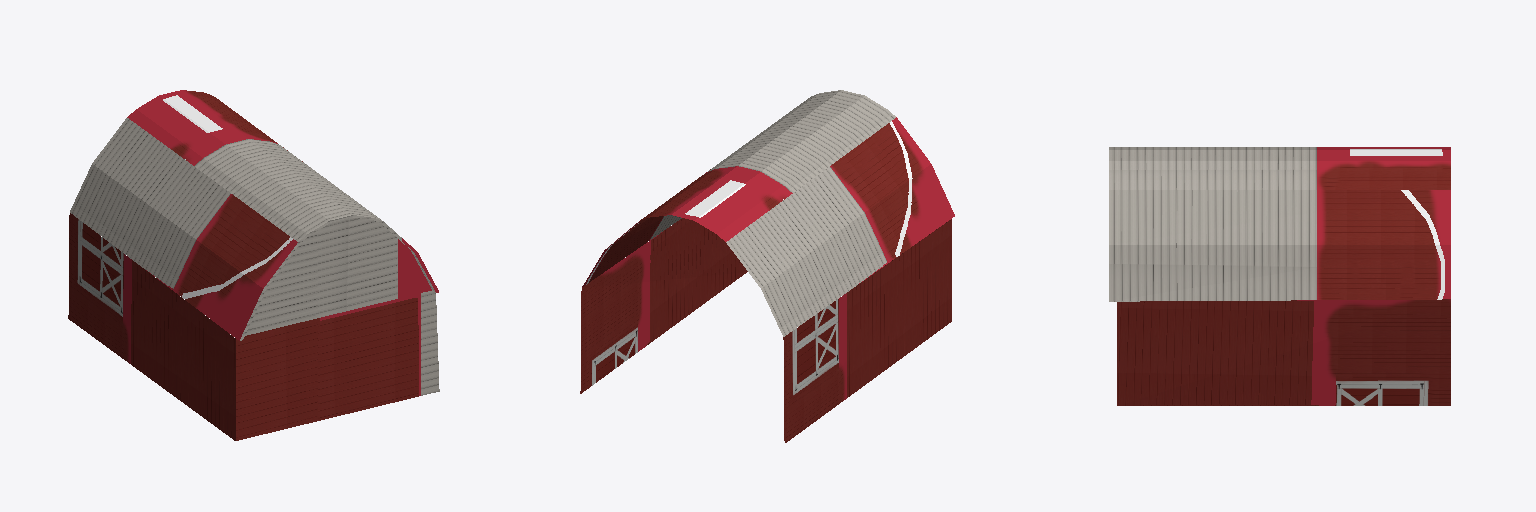
3 renders of one model, left to right at view 1: azimuth 30°, elevation 25°; view 2: azimuth 150°, elevation 25°; view 3: azimuth 270°, elevation 25°, orthographic.
Parts seen in each view (by area): view 1: Shed_Plane.001; view 2: Shed_Plane.001; view 3: Shed_Plane.001.
Part boxes in pixels (left/top/right/bottom): Shed_Plane.001: left=68, top=90, right=439, bottom=440; Shed_Plane.001: left=580, top=90, right=954, bottom=442; Shed_Plane.001: left=1109, top=147, right=1450, bottom=405.
Size of the model in its own units: 17.67 by 16.66 by 25.64.
Materials: 1 (1 with a texture image).